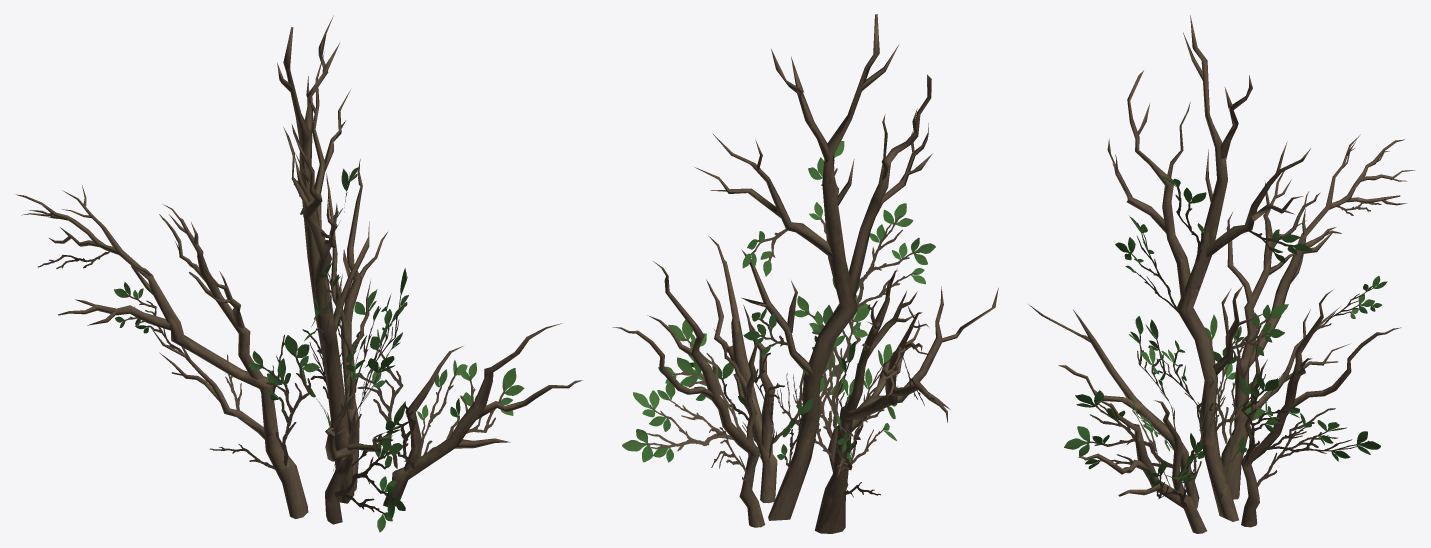
Rendered from SM_FW01_Bush_Dead_01.fbx.
3 views of the same model, side by side, from view 1: azimuth 30°, elevation 25°; view 2: azimuth 150°, elevation 25°; view 3: azimuth 270°, elevation 25° (orthographic). The views are drawn at different scales.
Parts seen in each view (by area): view 1: SM_FW01_Bush_Dead_01_LOD0; view 2: SM_FW01_Bush_Dead_01_LOD0; view 3: SM_FW01_Bush_Dead_01_LOD0.
Part boxes in pixels (bbox=[...]): SM_FW01_Bush_Dead_01_LOD0: bbox=[16, 15, 582, 532]; SM_FW01_Bush_Dead_01_LOD0: bbox=[612, 14, 998, 533]; SM_FW01_Bush_Dead_01_LOD0: bbox=[1028, 15, 1415, 533].
Size of what is drawn, in the model's own units: 2.93 by 3.6 by 2.7.
